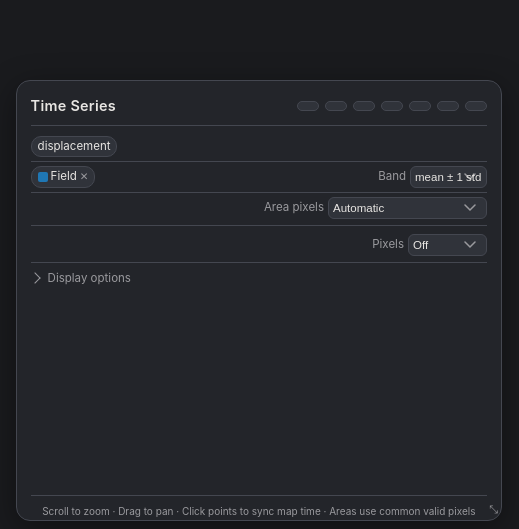
Test case: chart display options › open and close, and the choice is remembered
The width and height of the screenshot is (519, 529).
Later steps or results of the test are not shown.
What coordinates should you click on to do the following:
click the button "Display options"
I would click on:
 (81, 278)
Its box is [31,271,131,285].
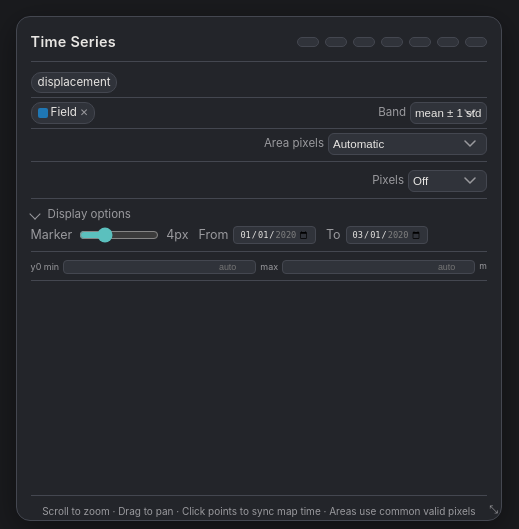
Result: the button "Display options" is expanded at [31,207,131,221]
Result: the text "Marker" is shown at [31,226,72,244]
Result: the text "y0 min" is shown at [31,260,59,274]
